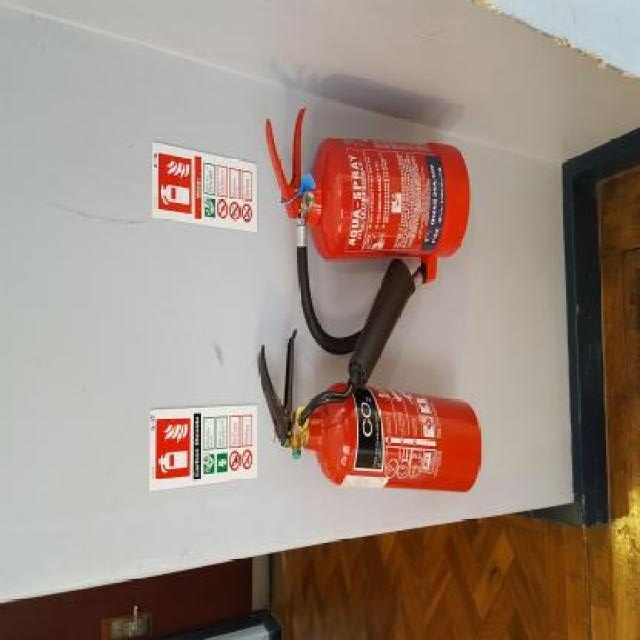fire extinguisher: (257, 259, 480, 495), (265, 107, 470, 355)
